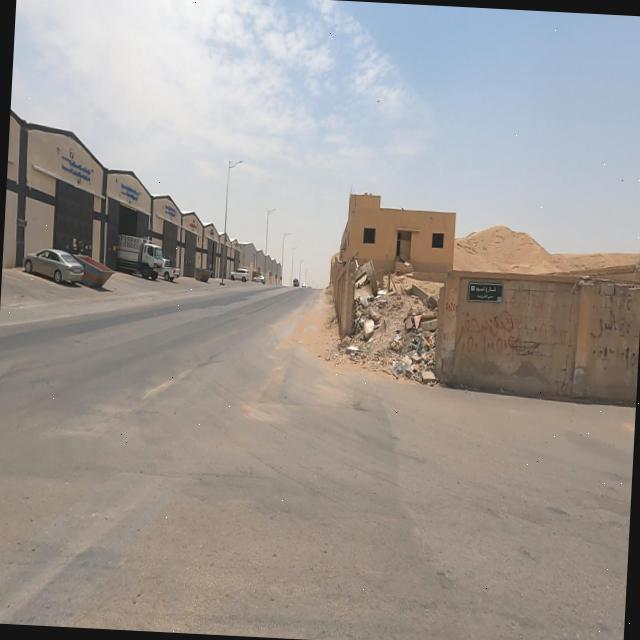Graffiti: (514, 286, 574, 364), (589, 294, 640, 376), (458, 308, 514, 359), (444, 299, 460, 315)
